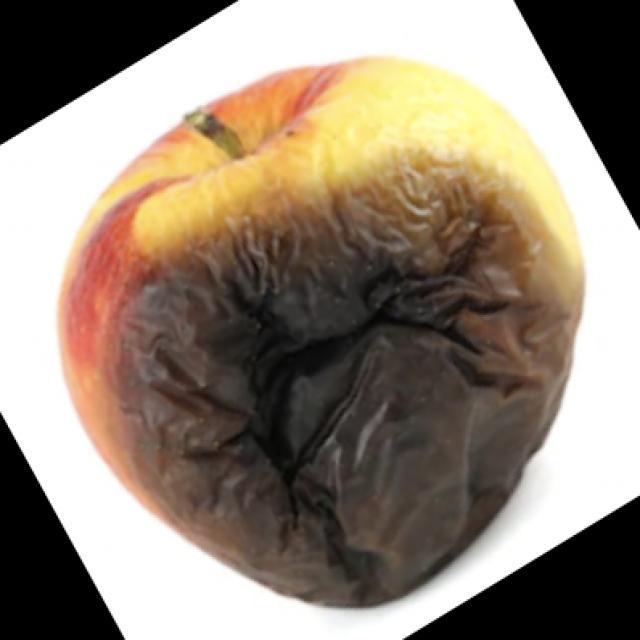Rotten: (65, 66, 572, 586)
